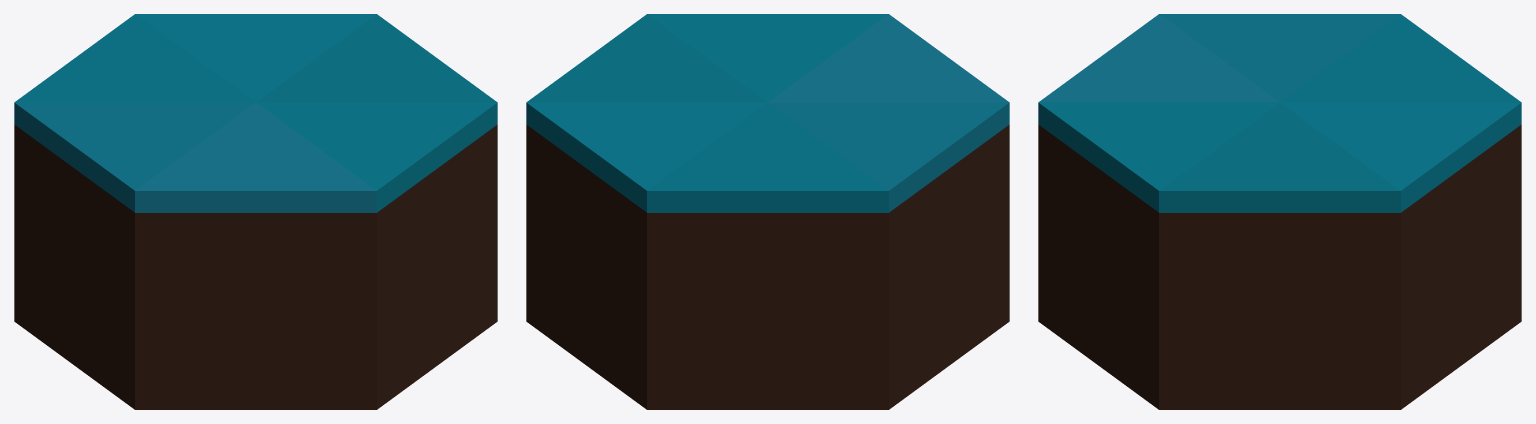
File: shallow.glb
The picture shows the model from 3 angles, left to right: view 1: azimuth 30°, elevation 25°; view 2: azimuth 150°, elevation 25°; view 3: azimuth 270°, elevation 25°; orthographic projection.
Parts seen in each view (by area): view 1: Cylinder; view 2: Cylinder; view 3: Cylinder.
Part boxes in pixels (left/top/right/bottom): Cylinder: left=14, top=14, right=497, bottom=409; Cylinder: left=526, top=14, right=1009, bottom=409; Cylinder: left=1038, top=14, right=1521, bottom=409.
Size of the model in its own units: 1.73 by 1 by 2.
